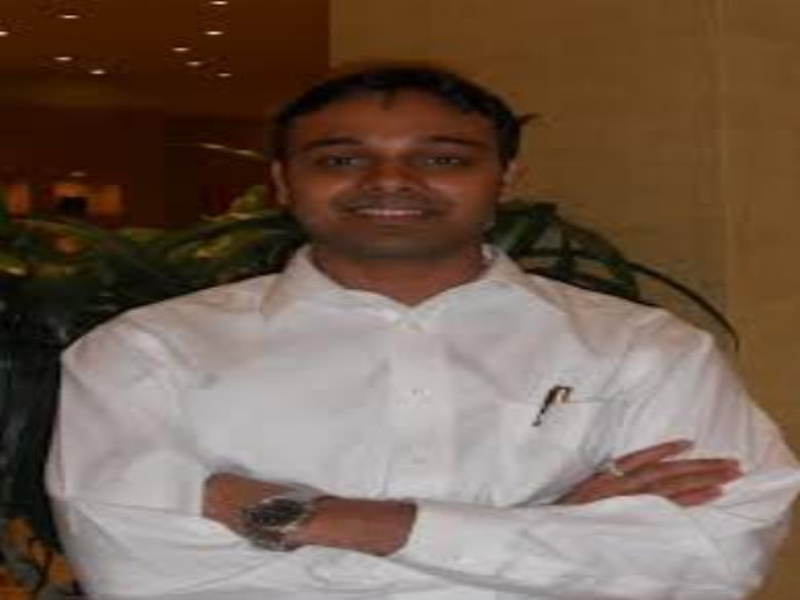TsisyArotava: (254, 51, 539, 289)
